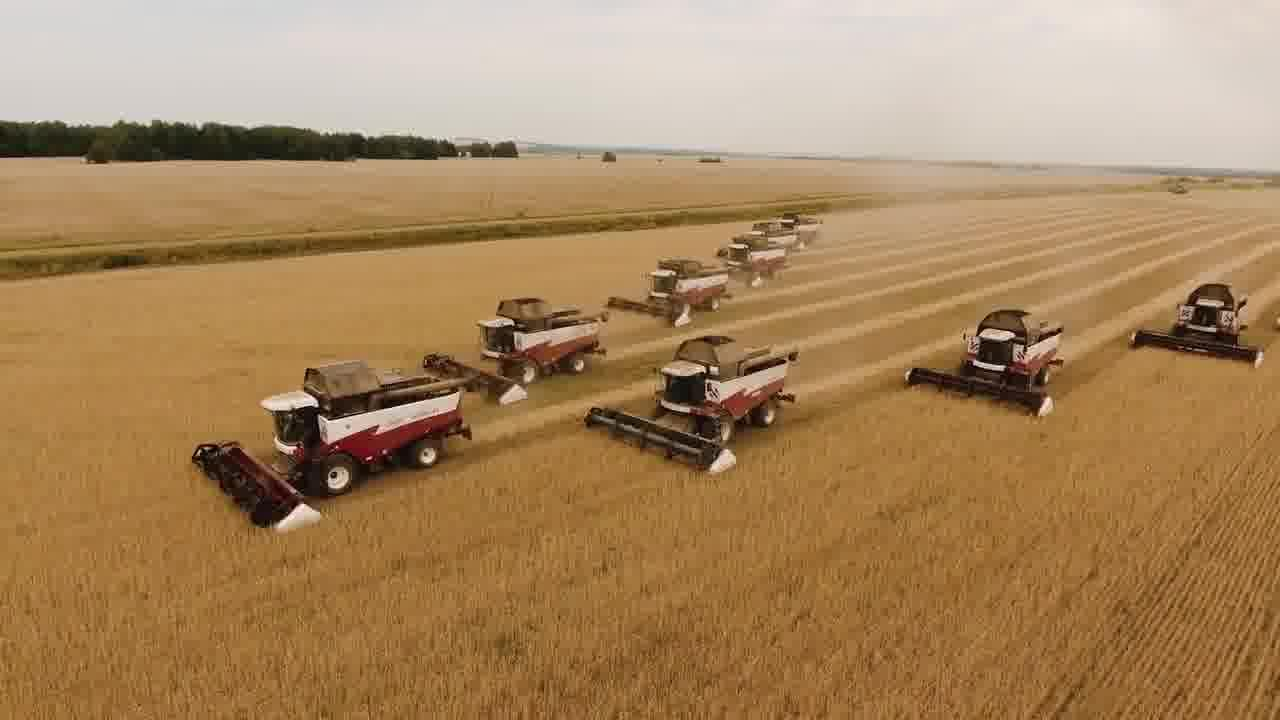combine harvester: (179, 359, 478, 539), (577, 331, 809, 478), (426, 292, 620, 405), (901, 304, 1067, 426), (1124, 281, 1268, 373), (609, 255, 731, 331), (717, 239, 794, 287), (749, 214, 805, 256)
